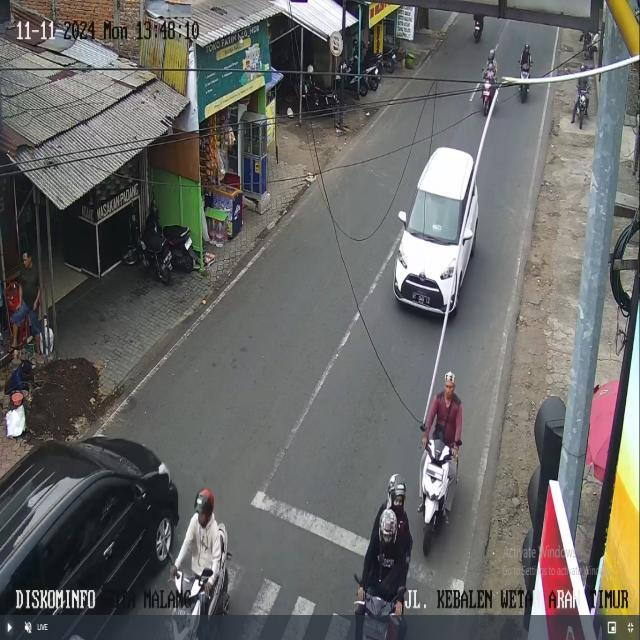Helmet: (379, 509, 397, 543), (388, 474, 405, 507), (194, 488, 213, 514), (444, 371, 454, 383), (488, 49, 494, 60), (307, 64, 313, 73), (580, 64, 586, 71), (524, 43, 529, 51)
Number Plate: (413, 294, 429, 304), (185, 237, 192, 249)
Rearview Mirror: (463, 229, 473, 241), (398, 211, 406, 225), (202, 568, 213, 578), (397, 586, 405, 599)
